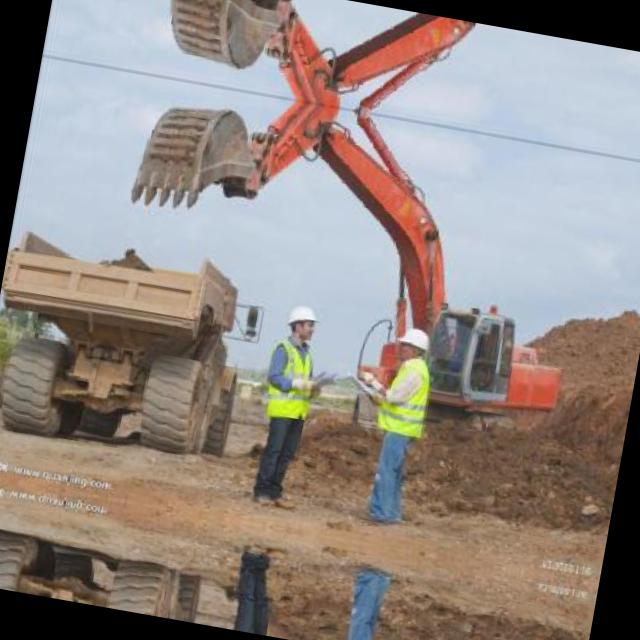helmet: (280, 294, 324, 344), (394, 322, 435, 364)
